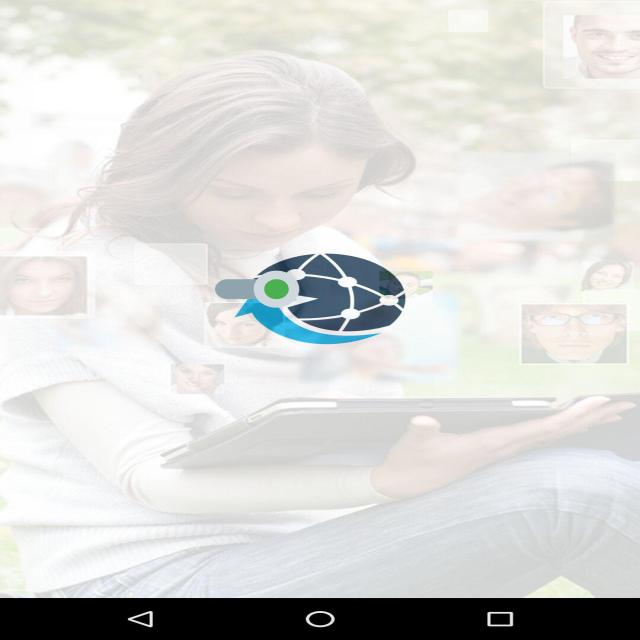social proof: (215, 255, 299, 323)
